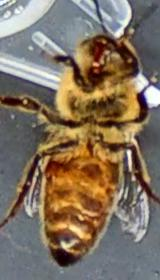varroa_mite: (38, 151, 62, 181)
